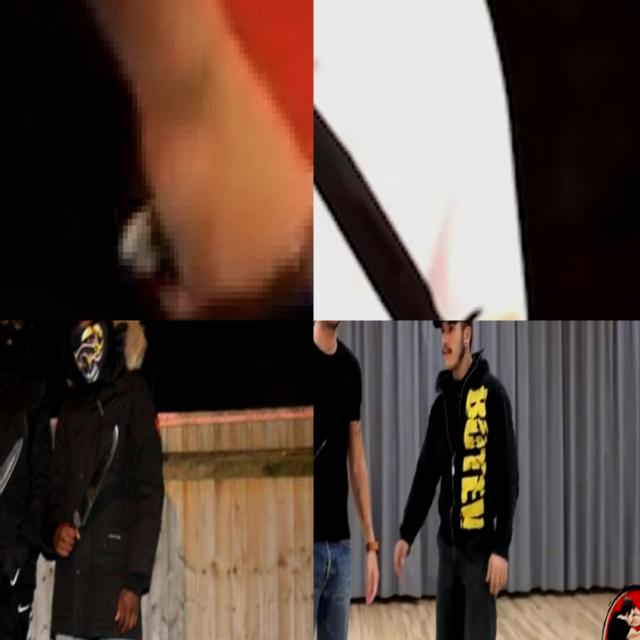Knife: (313, 60, 454, 320)
Knife_Handle: (313, 48, 601, 320), (120, 148, 313, 274), (53, 424, 117, 558), (0, 435, 24, 524), (313, 435, 329, 504)
